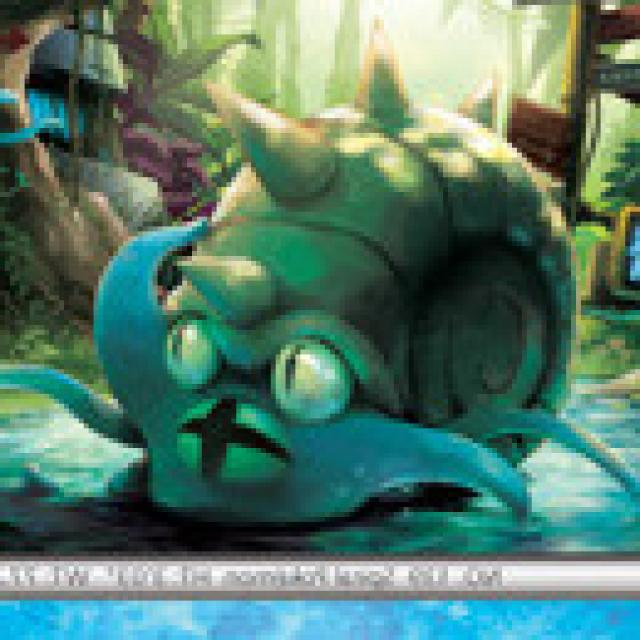Omastar: (95, 90, 566, 520)
